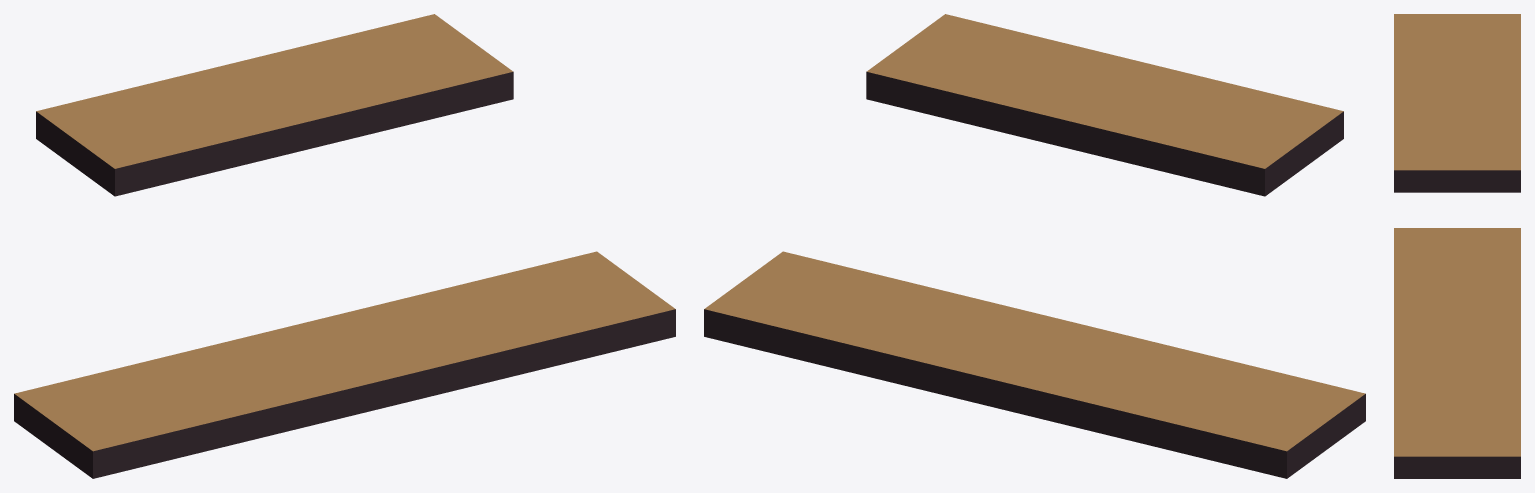
The model's file is LCestantes.fbx.
The picture shows the model from 3 angles, left to right: view 1: azimuth 30°, elevation 25°; view 2: azimuth 150°, elevation 25°; view 3: azimuth 270°, elevation 25°; orthographic projection. The views are drawn at different scales.
Visible parts, largest first — view 1: Cube.038, Cube.086; view 2: Cube.038, Cube.086; view 3: Cube.038, Cube.086.
Part boxes in pixels (box(x1,y1,x2,y2)): Cube.038: box(14, 251, 675, 478); Cube.086: box(36, 14, 513, 196); Cube.038: box(704, 251, 1365, 478); Cube.086: box(866, 14, 1343, 196); Cube.038: box(1394, 228, 1520, 478); Cube.086: box(1394, 14, 1520, 192).
Size of the model in its own units: 485 by 242 by 114.
